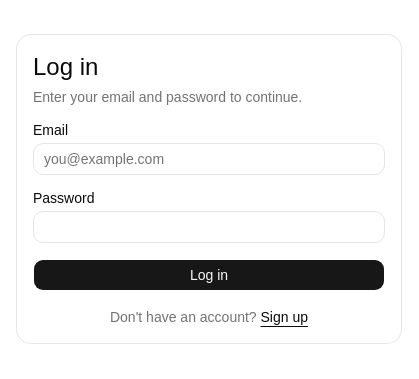
Test case: LoginPage › shows a validation error for invalid email
Type "not-an-email" into the field with test id "login-email" at (209,159), box [33,143,385,175]
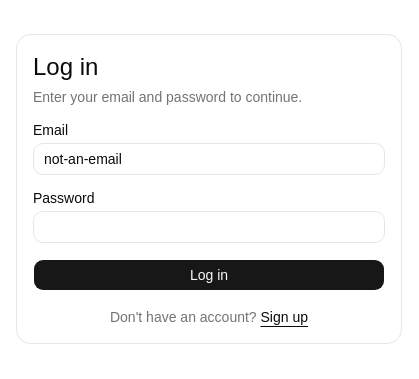
Type "password123" into the password field with test id "login-password" at (209,227), box [33,211,385,243]
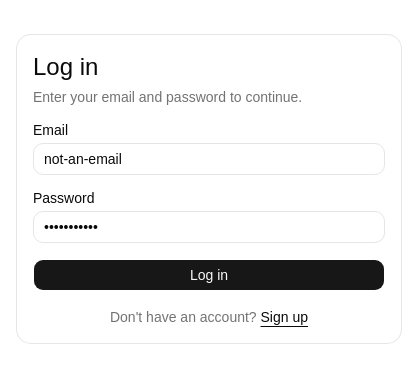
Submit the form from the button with test id "login-submit", box [33,259,385,291]
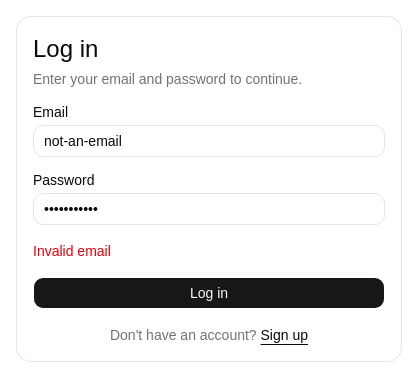
Now the text with test id "login-error" reads "Invalid email", box [33,243,111,259]
